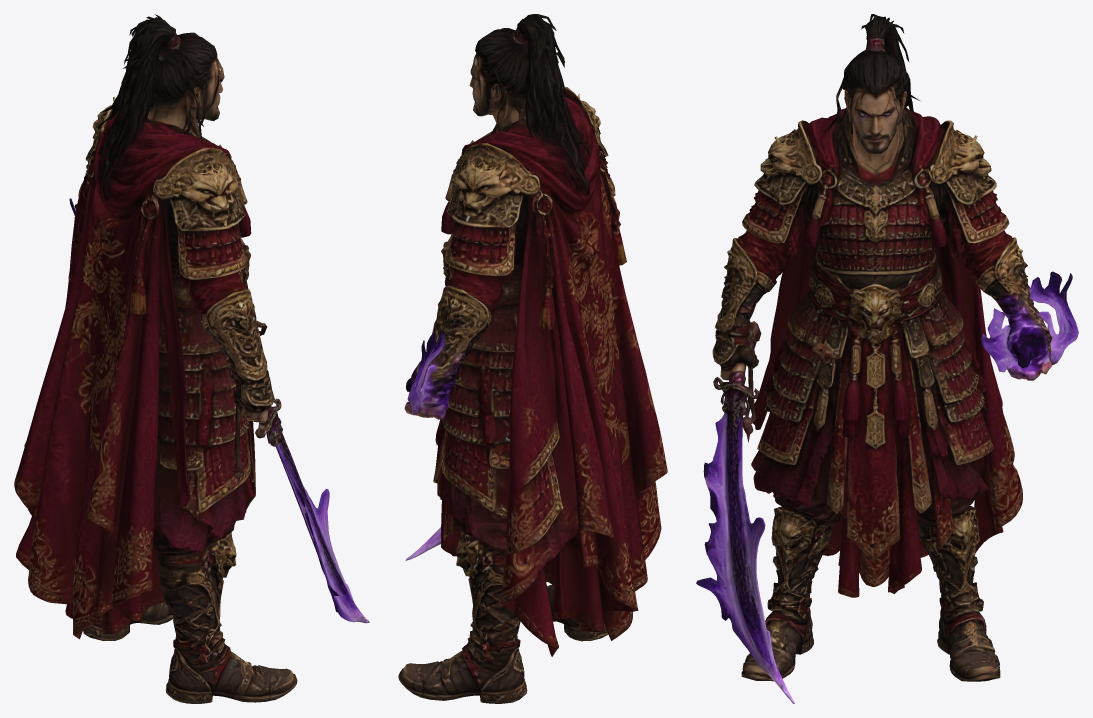
File: wraithsworn-EmberKhan-tripo.glb
The picture shows the model from 3 angles, left to right: view 1: azimuth 30°, elevation 25°; view 2: azimuth 150°, elevation 25°; view 3: azimuth 270°, elevation 25°; orthographic projection. The views are drawn at different scales.
Visible parts, largest first — view 1: tripo_node_6d161306-8183-4a20-8b02-10a3286f7915; view 2: tripo_node_6d161306-8183-4a20-8b02-10a3286f7915; view 3: tripo_node_6d161306-8183-4a20-8b02-10a3286f7915.
Boxes of the visible parts, box(x1,y1,x2,y2) form: tripo_node_6d161306-8183-4a20-8b02-10a3286f7915: box(14, 14, 369, 703); tripo_node_6d161306-8183-4a20-8b02-10a3286f7915: box(398, 14, 667, 703); tripo_node_6d161306-8183-4a20-8b02-10a3286f7915: box(696, 14, 1078, 703).
Bounding box in the file's own units: 0.4614 × 1 × 0.546.
Materials: 1 (1 with a texture image).
